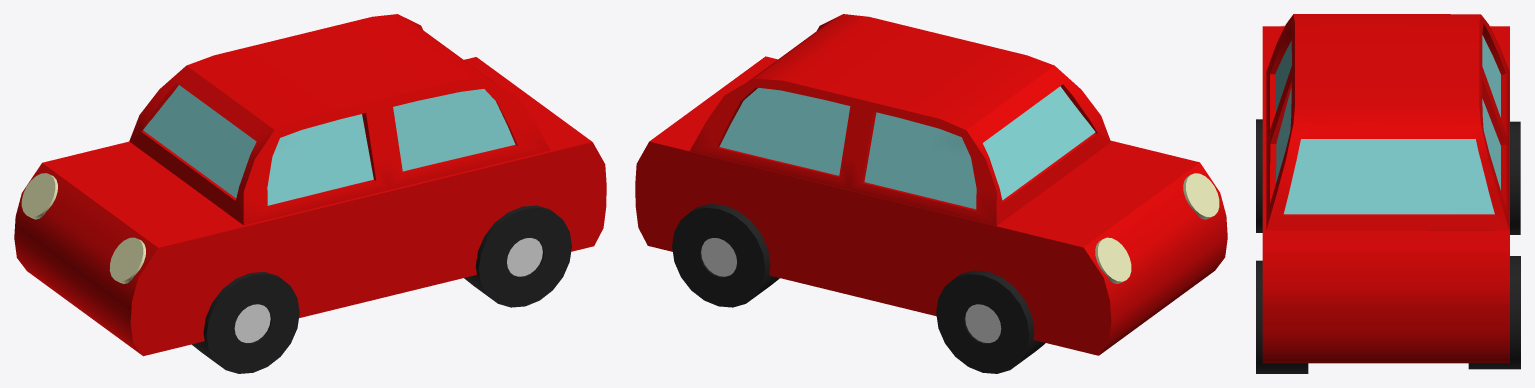
File: Car1.fbx
3 renders of one model, left to right at view 1: azimuth 30°, elevation 25°; view 2: azimuth 150°, elevation 25°; view 3: azimuth 270°, elevation 25°, orthographic. The views are drawn at different scales.
Parts seen in each view (by area): view 1: front1; view 2: front1; view 3: front1.
Boxes of the visible parts, <box> form: front1: <box>14,14,606,373</box>; front1: <box>635,14,1227,373</box>; front1: <box>1256,14,1520,373</box>.
Size of the model in its own units: 409 by 184 by 185.
